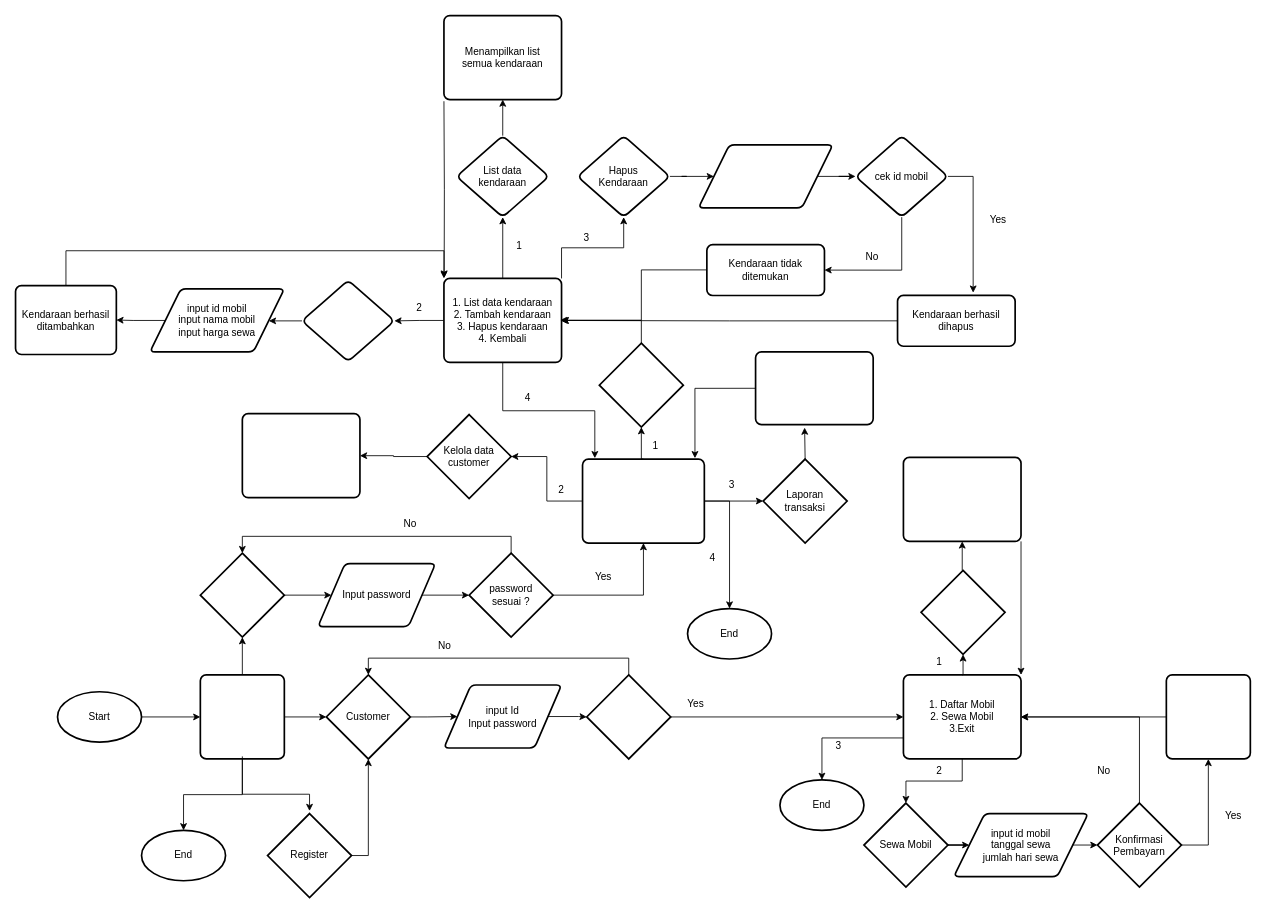
The diagram is 1273 pixels wide and 912 high, and some of its shapes have lost their labels. Here are the shapes that lost their labels. From the top down, the centre of each, then its label:
At pixel 765 176: "input id mobil".
At pixel 348 320: "Tambah Kendaraan".
At pixel 641 385: "Kelola data kendaraan".
At pixel 814 388: "Menampilkan riwayat transaksi dan total pendapatan".
At pixel 300 455: "Menampilkan List customer".
At pixel 643 500: "1.Kelola data kendaraan 2. Kelola data customer 3. Laporan transaksi 4.Exit".
At pixel 961 499: "Menampilkan list kendaraan yang tersedia".
At pixel 242 595: "Admin".
At pixel 962 612: "Lihat daftar mobil".
At pixel 242 716: "Admin Customer Register Exit".
At pixel 628 716: "Id password sesuai ?".
At pixel 1208 716: "ID Transaksi".
